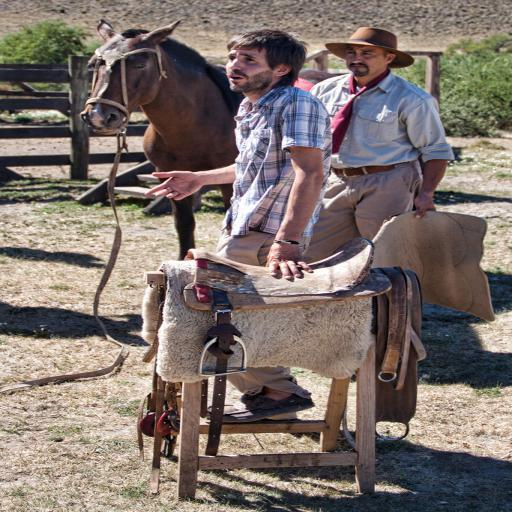Horse: (73, 16, 347, 258)
